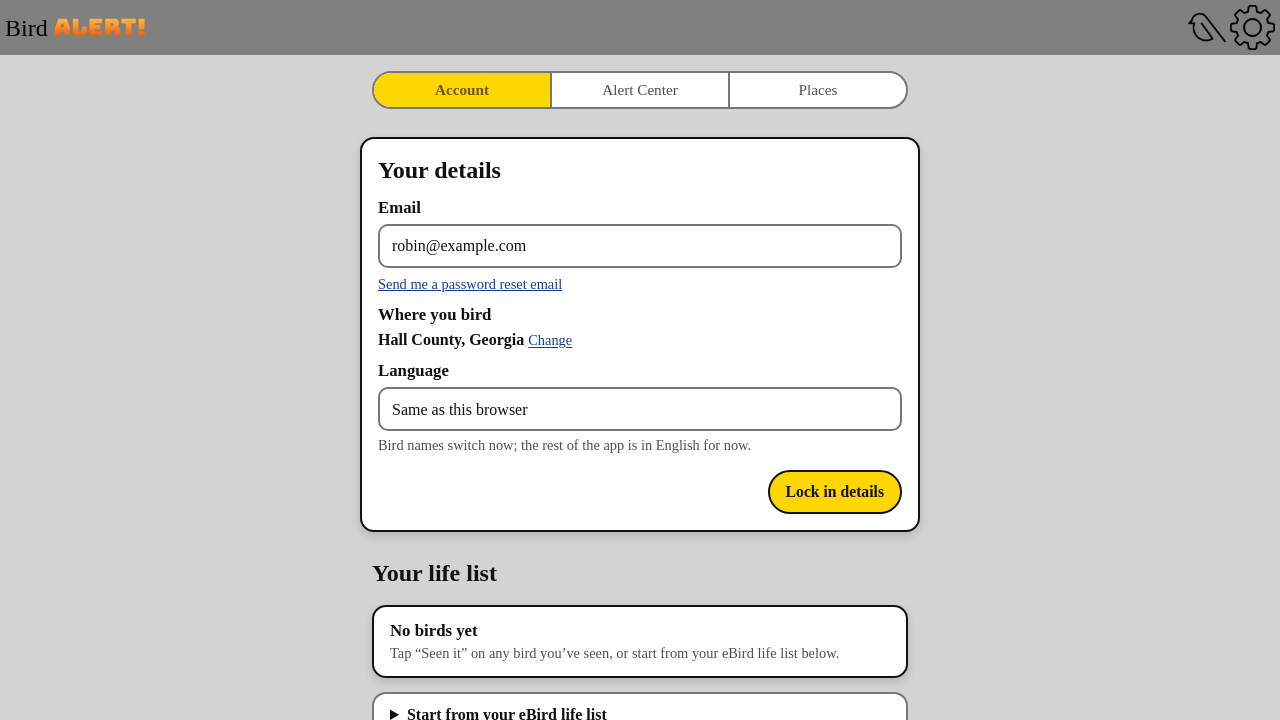
Scenario: Settings tabs › opens on Account, switches tabs in the address, and keeps feedback on every tab
Expected: the form with id "settings-form" is shown, [360,137,920,532]
Click the button "Alert Center".
click(639, 90)  # box [550,73,728,107]
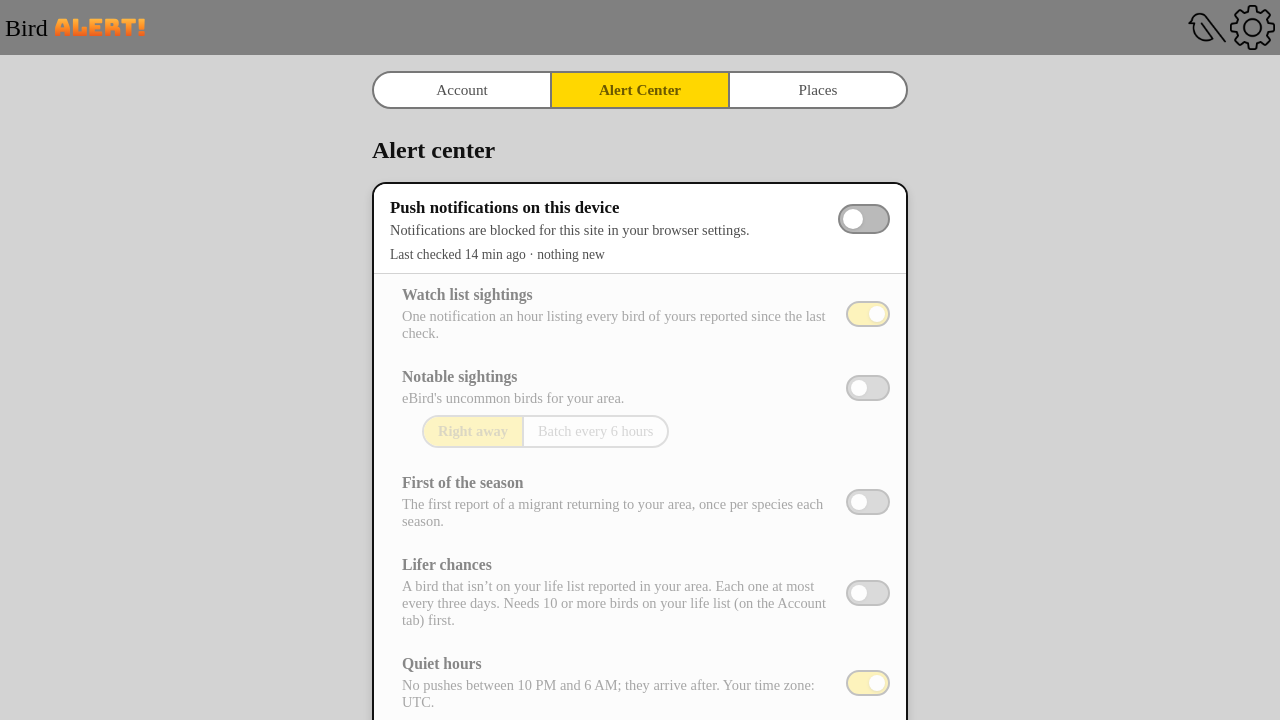
Result: the heading "Alert center" is shown at [372,137,495,163]
Result: the form with id "settings-form" is gone
Click the button "Places".
click(817, 90)  # box [728,73,906,107]
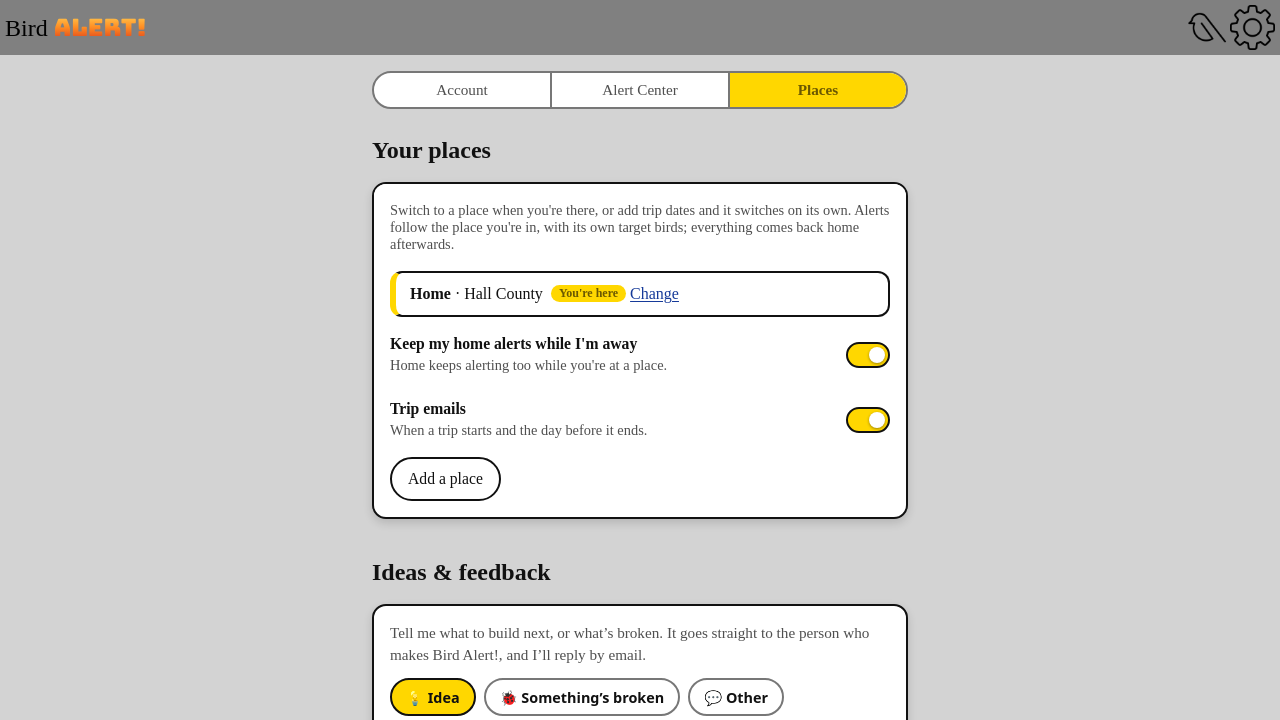
Expected: the element with class "feedback" is shown, [360,559,920,719]
Click the button "Account".
click(462, 90)  # box [374,73,550,107]
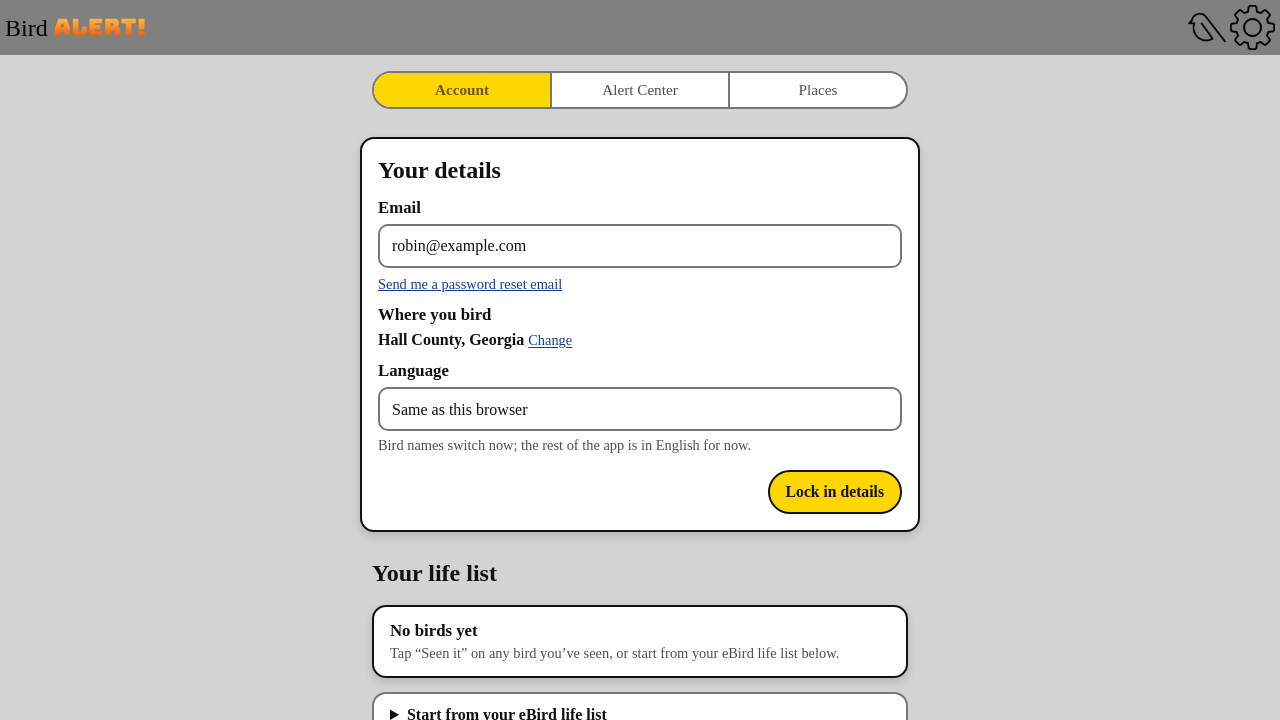
Result: the form with id "settings-form" is shown at [360,137,920,532]
